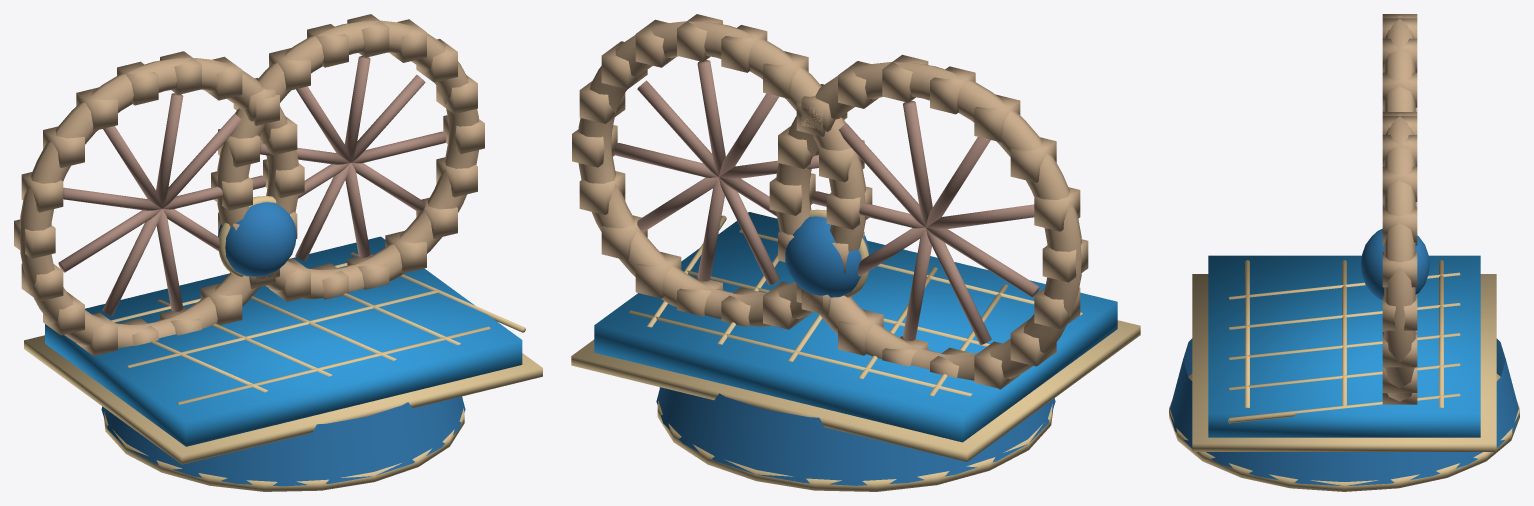
The model's file is base_engranajes_independiente.glb.
3 views of the same model, side by side, from view 1: azimuth 30°, elevation 25°; view 2: azimuth 150°, elevation 25°; view 3: azimuth 270°, elevation 25° (orthographic). The views are drawn at different scales.
Visible parts, largest first — view 1: Malla_3, Malla_2, Malla_4, Malla_1, Malla_0; view 2: Malla_3, Malla_2, Malla_4, Malla_0, Malla_1; view 3: Malla_2, Malla_1, Malla_3, Malla_0.
Part boxes in pixels (bbox=[...]): Malla_3: bbox=[14, 14, 484, 356]; Malla_2: bbox=[45, 236, 522, 446]; Malla_4: bbox=[58, 56, 446, 315]; Malla_1: bbox=[24, 196, 542, 491]; Malla_0: bbox=[101, 202, 465, 486]; Malla_3: bbox=[572, 14, 1088, 389]; Malla_2: bbox=[594, 212, 1117, 442]; Malla_4: bbox=[614, 60, 1039, 344]; Malla_0: bbox=[656, 216, 1055, 485]; Malla_1: bbox=[571, 209, 1140, 491]; Malla_2: bbox=[1208, 255, 1480, 437]; Malla_1: bbox=[1169, 260, 1519, 491]; Malla_3: bbox=[1382, 14, 1417, 404]; Malla_0: bbox=[1169, 228, 1519, 486].
Size of the model in its own units: 2.21 by 1.64 by 1.52.
